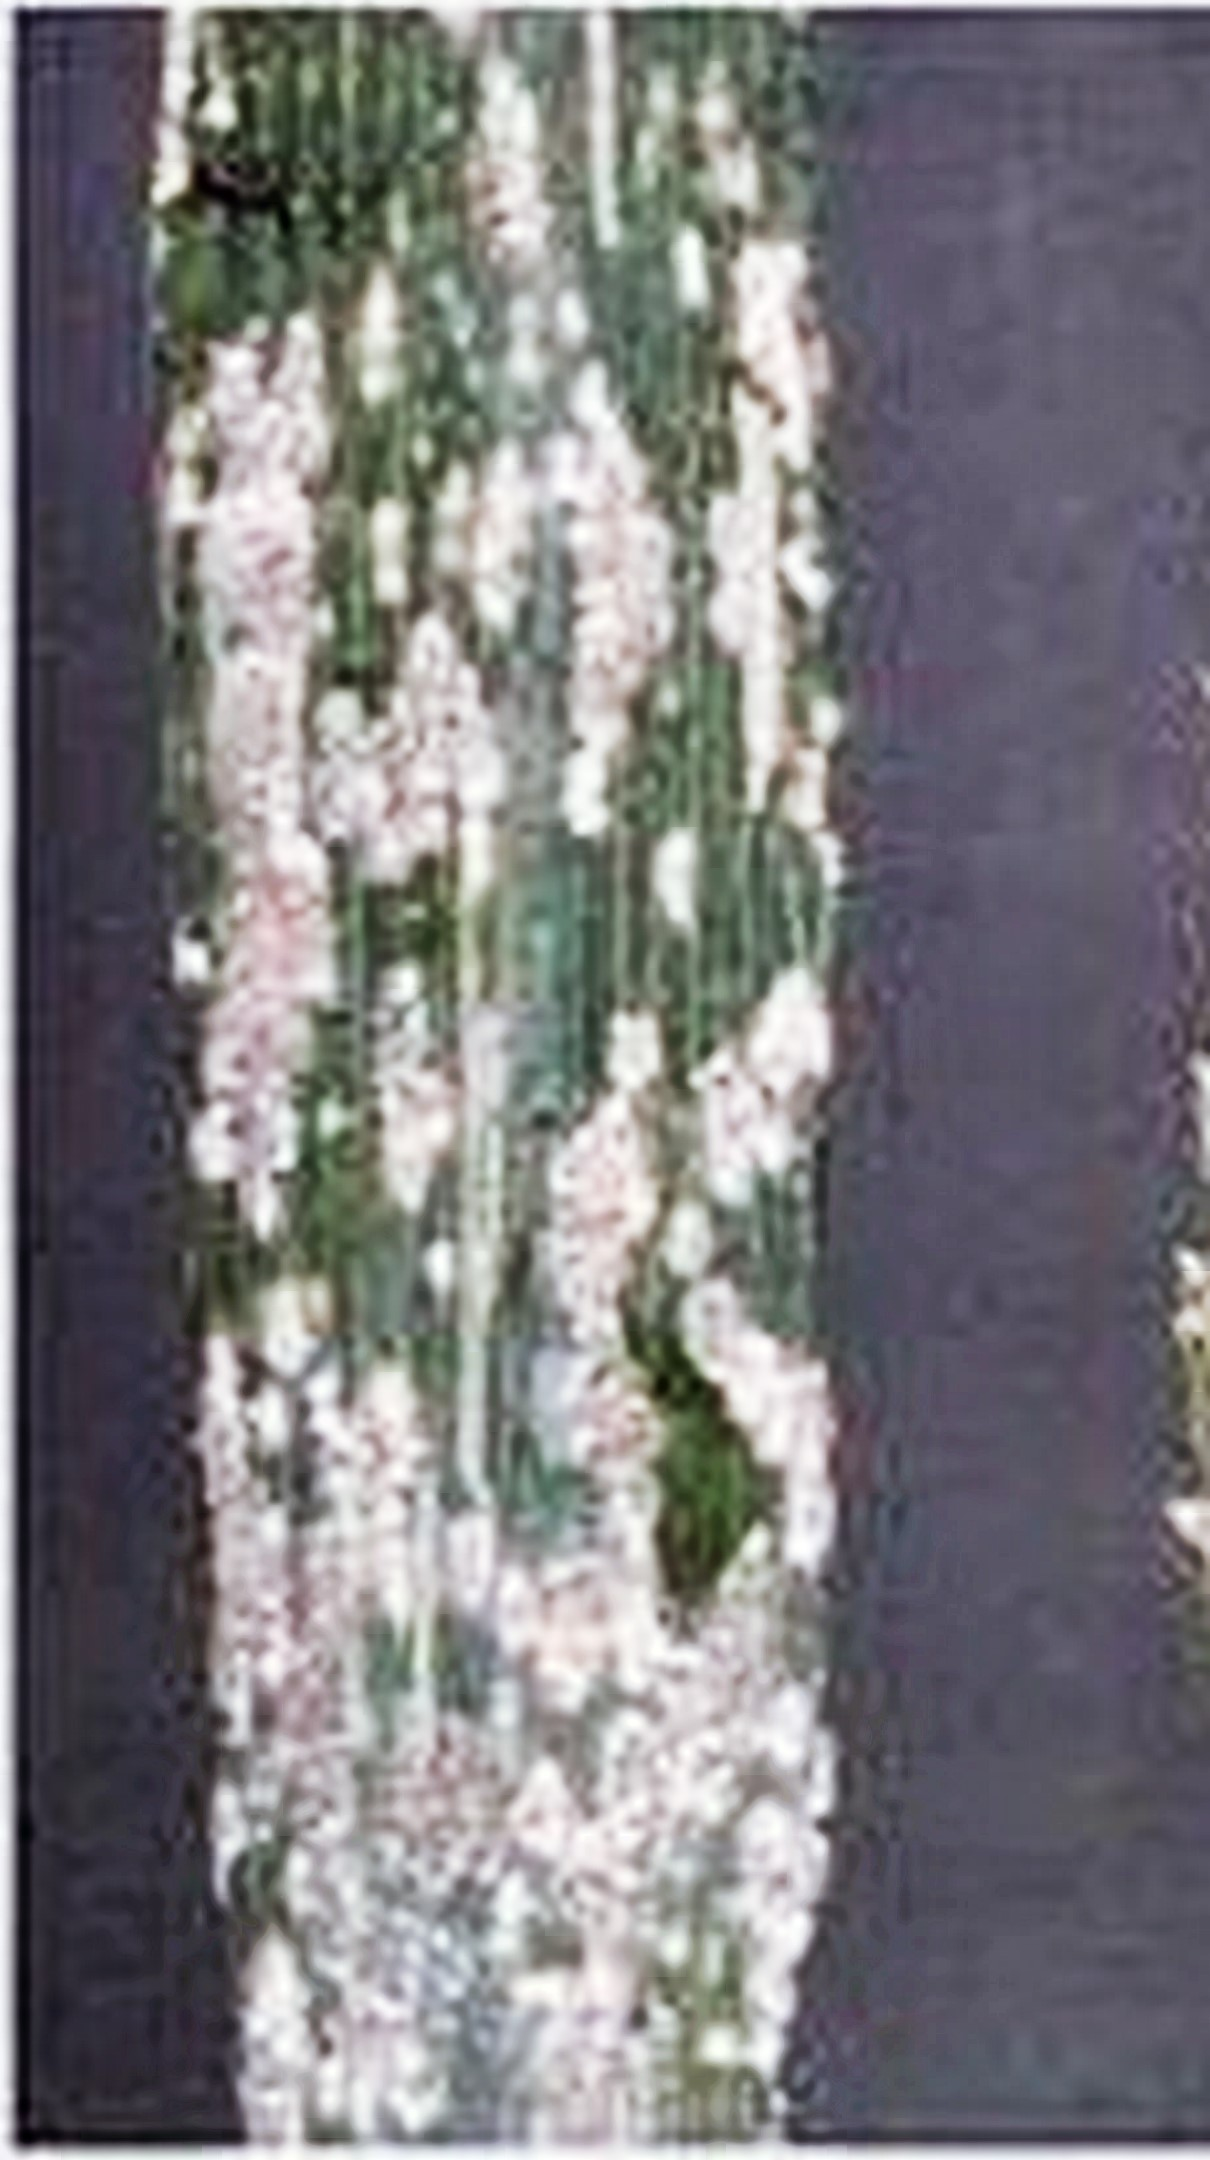Powdery Mildew: (120, 294, 933, 1684)
